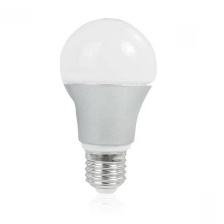light_bulb: (53, 5, 160, 195)
